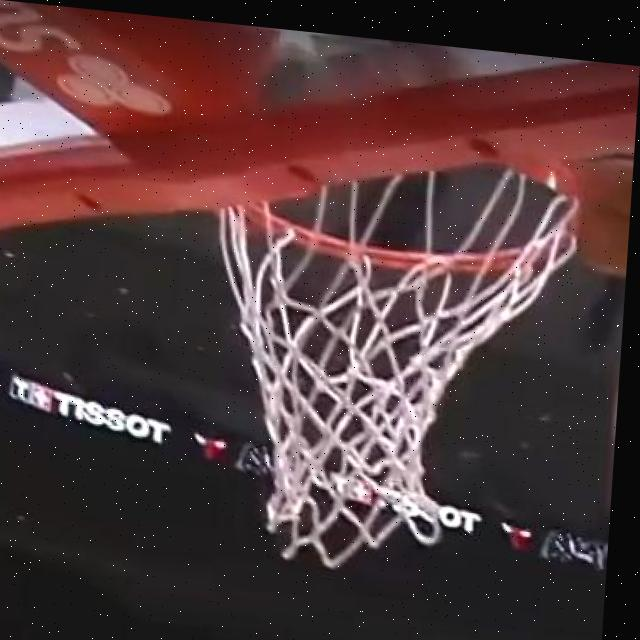hoop: (179, 105, 574, 584)
